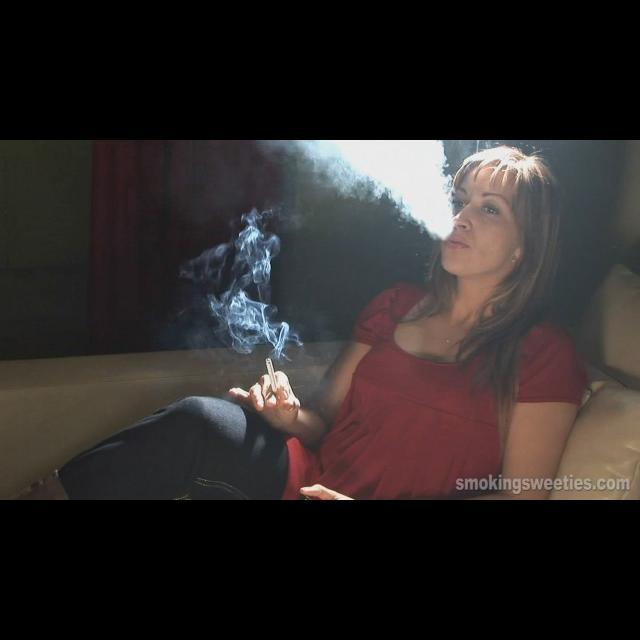rokok: (258, 356, 282, 396)
